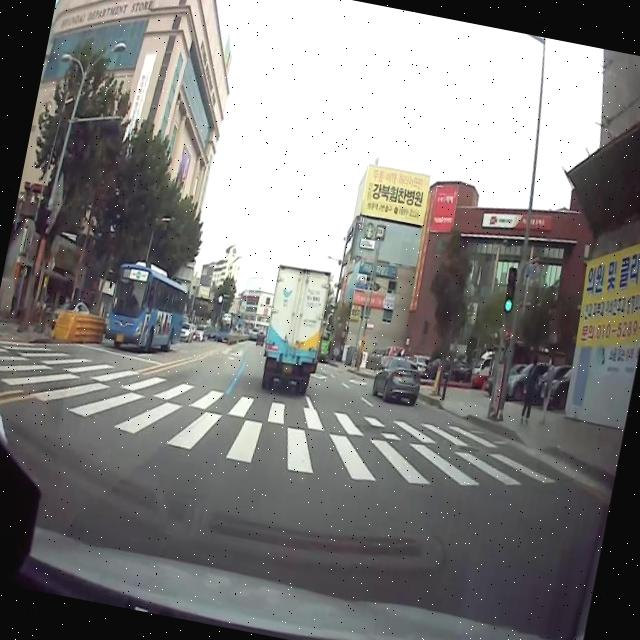crosswalk: (0, 339, 558, 487)
